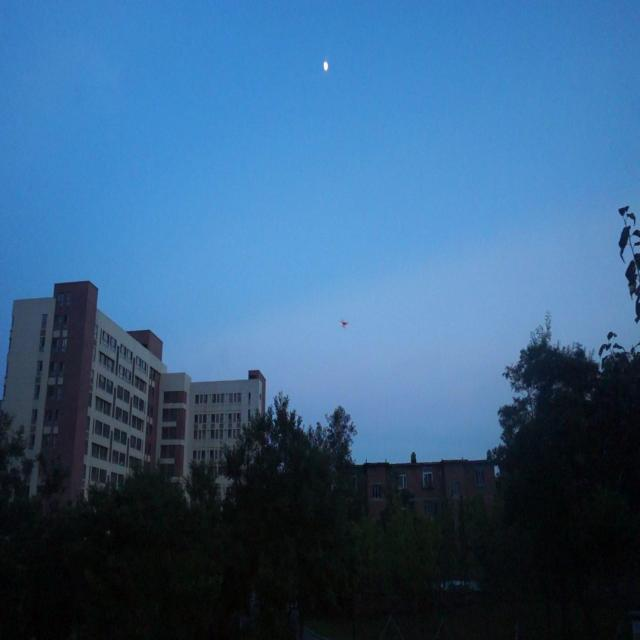drone: (338, 314, 349, 330)
